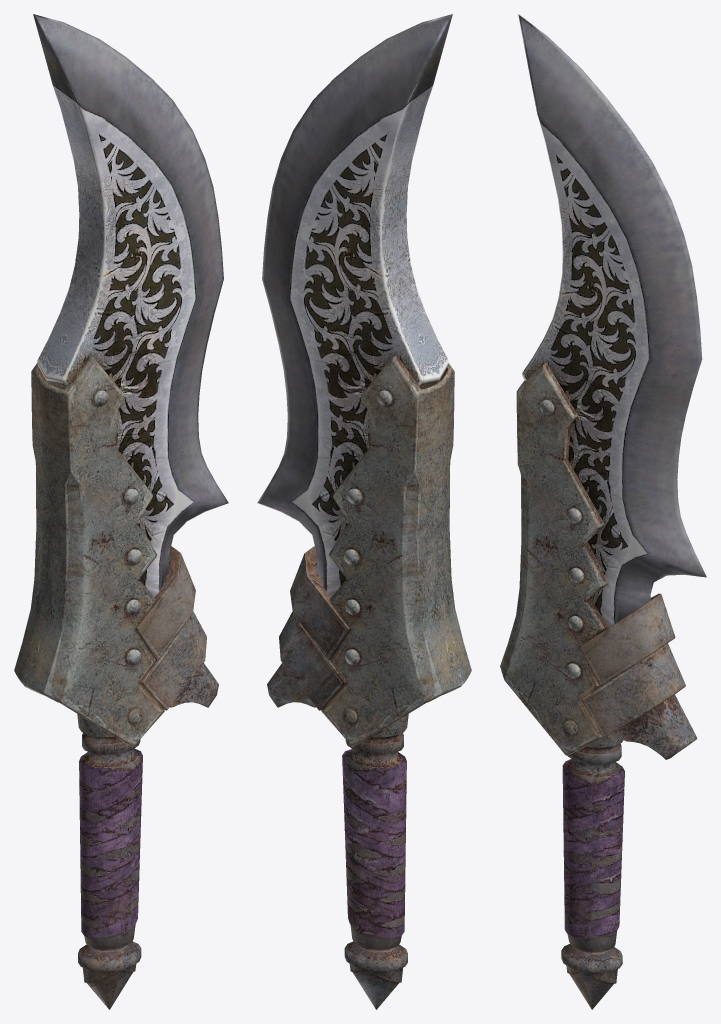
Rendered from bs_one013.obj.
The picture shows the model from 3 angles, left to right: view 1: azimuth 30°, elevation 25°; view 2: azimuth 150°, elevation 25°; view 3: azimuth 330°, elevation 25°; orthographic projection. The views are drawn at different scales.
Parts seen in each view (by area): view 1: bs_one013_000_LOD_1; view 2: bs_one013_000_LOD_1; view 3: bs_one013_000_LOD_1.
Part boxes in pixels (left/top/right/bottom): bs_one013_000_LOD_1: left=14, top=14, right=228, bottom=1009; bs_one013_000_LOD_1: left=257, top=14, right=471, bottom=1009; bs_one013_000_LOD_1: left=500, top=14, right=706, bottom=1009.
Bounding box in the file's own units: 23.52 × 111 × 10.45.
